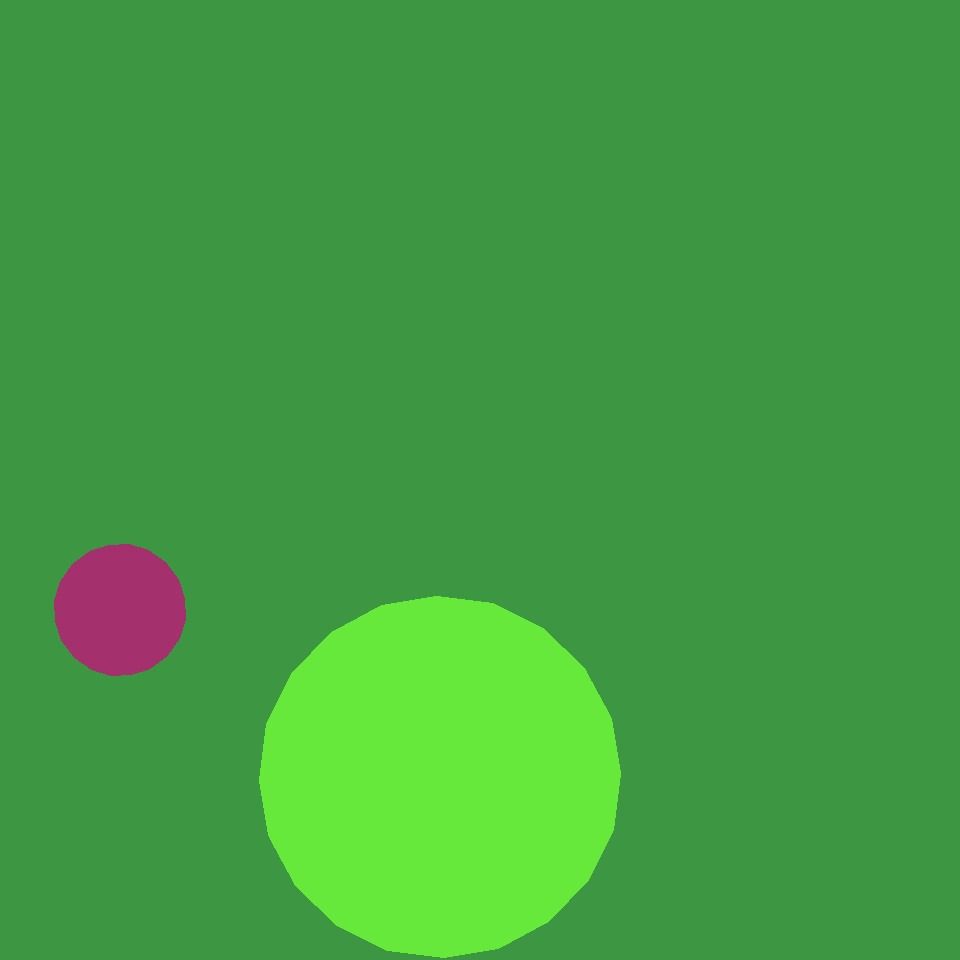circle: (148, 408, 420, 648), (276, 238, 362, 334)
square: (160, 233, 481, 554)
triangle: (259, 596, 620, 957), (517, 496, 869, 848), (650, 206, 836, 393), (55, 544, 186, 676)
